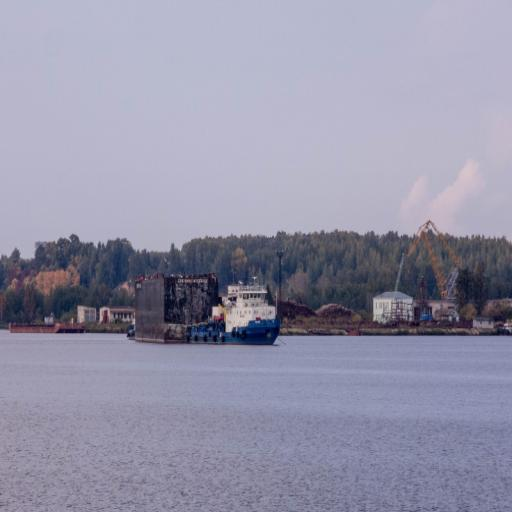tugboat: (187, 276, 283, 353)
